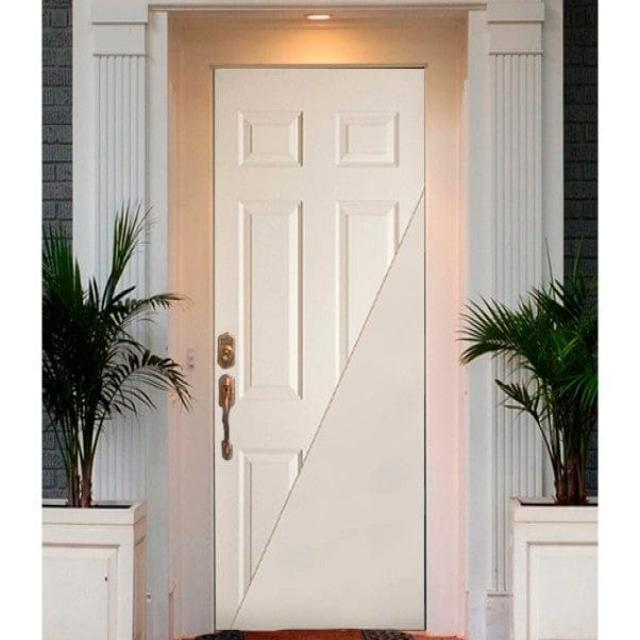door: (212, 65, 427, 631)
